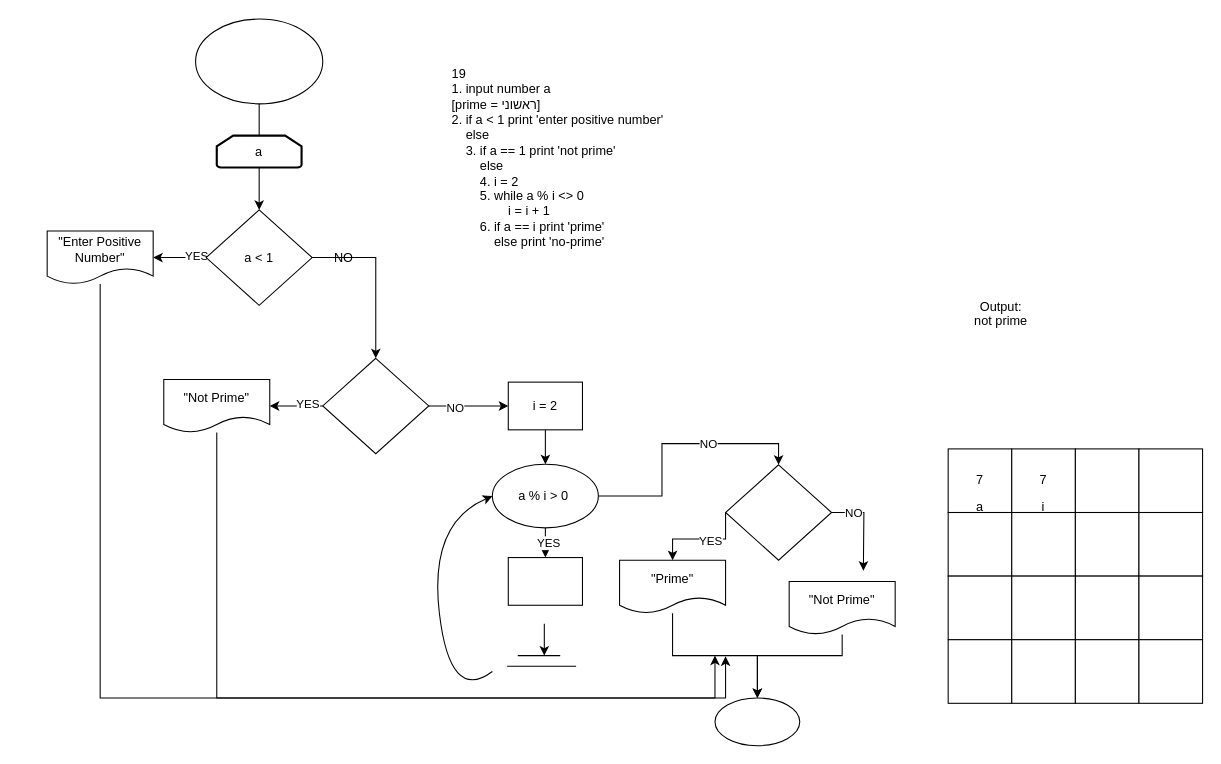
The diagram is 1221 pixels wide and 764 high, and some of its shapes have lost their labels. Here are the shapes that lost their labels. From the top down, the box of each, then its label:
(195, 18, 323, 104): START
(322, 357, 429, 454): a == 1
(725, 464, 832, 560): a == i
(507, 556, 582, 605): i += 1
(714, 697, 800, 746): END
